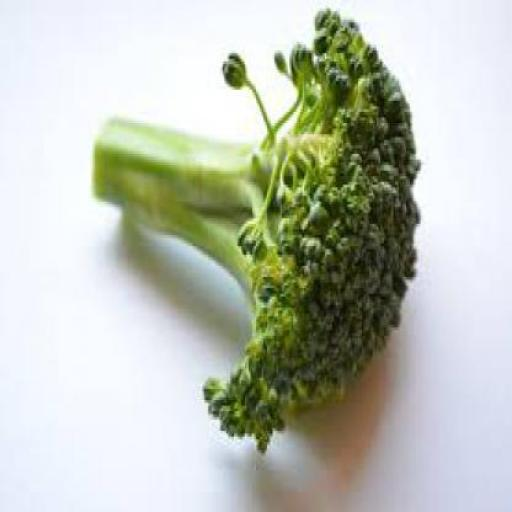biodegradable: (89, 8, 417, 450)
